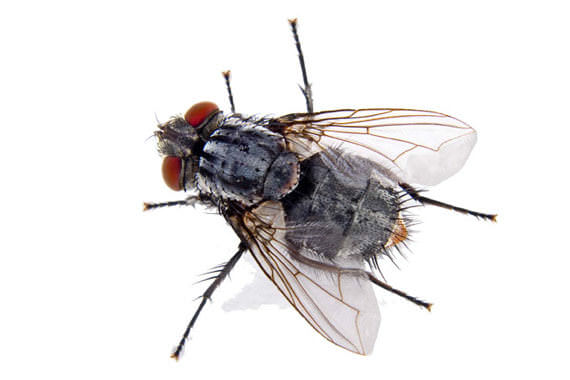house fly: (138, 15, 500, 362)
